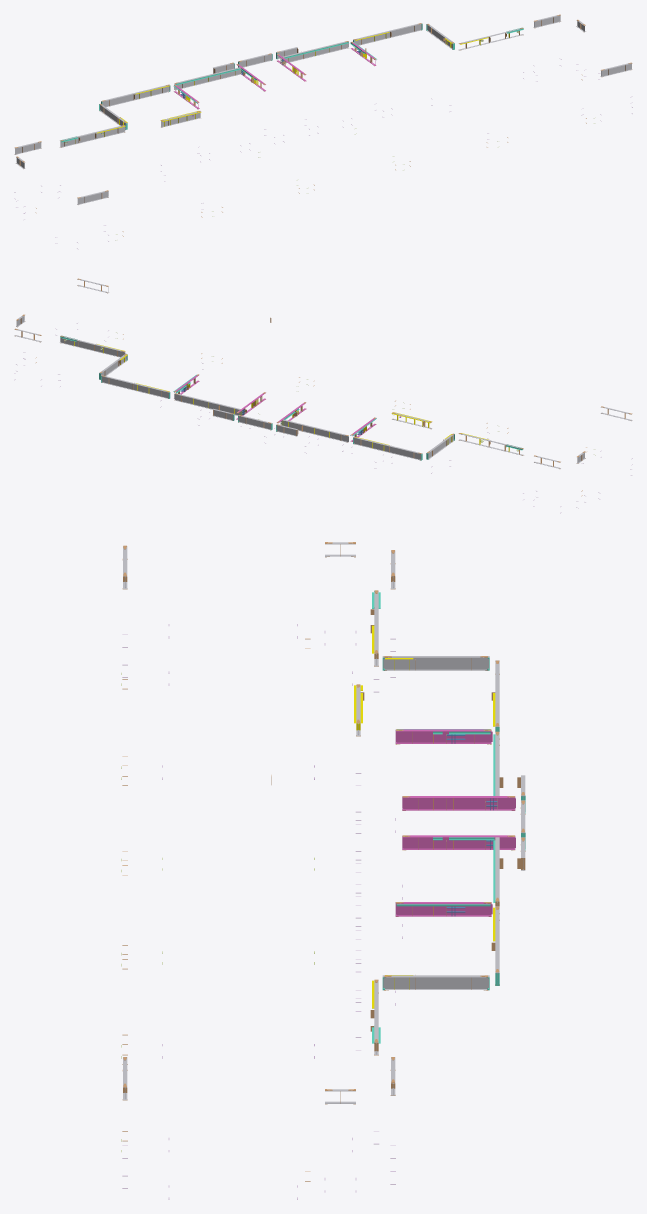
3 views of the same model, one above another, from view 1: azimuth 30°, elevation 25°; view 2: azimuth 150°, elevation 25°; view 3: azimuth 270°, elevation 25° (orthographic). The views are drawn at different scales.
Parts seen in each view (by area): view 1: 18-7GL[1WbTrB0089nZ4sCZ0qD3Ks], 18-7GL[1WbTrB008A3Z4sCZ0qD3Ks], 18-7GL[1WbTrB0089iZ4sCZ0qD3Ks], 18-7GL[1WbTrB0089qZ4sCZ0qD3Ks], 18-7GL[1WbTrB008A1Z4sCZ0qD3Ks]; view 2: 18-7GL[1WbTrB0089nZ4sCZ0qD3Ks], 18-7GL[1WbTrB008A3Z4sCZ0qD3Ks], 18-7GL[1WbTrB0089qZ4sCZ0qD3Ks], 18-7GL[1WbTrB008ADZ4sCZ0qD3Ks], 18-7GL[1WbTrB008A1Z4sCZ0qD3Ks]; view 3: 18-7GL[1WbTrB0089sZ4sCZ0qD3Ks], 18-7GL[1WbTrB008AAZ4sCZ0qD3Ks], 18-7GL[1WbTrB0089kZ4sCZ0qD3Ks], 18-7GL[1WbTrB0089$Z4sCZ0qD3Ks], 18-7GL[1WbTrB008A6Z4sCZ0qD3Ks], 18-7GL[1WbTrB008A8Z4sCZ0qD3Ks].
Part boxes in pixels (<box>): 18-7GL[1WbTrB0089nZ4sCZ0qD3Ks]: <box>101,84,169,107</box>; 18-7GL[1WbTrB008A3Z4sCZ0qD3Ks]: <box>353,23,421,45</box>; 18-7GL[1WbTrB0089iZ4sCZ0qD3Ks]: <box>60,125,125,147</box>; 18-7GL[1WbTrB0089qZ4sCZ0qD3Ks]: <box>174,67,240,90</box>; 18-7GL[1WbTrB008A1Z4sCZ0qD3Ks]: <box>282,41,348,63</box>; 18-7GL[1WbTrB0089nZ4sCZ0qD3Ks]: <box>353,437,422,460</box>; 18-7GL[1WbTrB008A3Z4sCZ0qD3Ks]: <box>101,375,169,398</box>; 18-7GL[1WbTrB0089qZ4sCZ0qD3Ks]: <box>282,419,348,442</box>; 18-7GL[1WbTrB008ADZ4sCZ0qD3Ks]: <box>60,336,125,357</box>; 18-7GL[1WbTrB008A1Z4sCZ0qD3Ks]: <box>174,394,240,415</box>; 18-7GL[1WbTrB0089sZ4sCZ0qD3Ks]: <box>402,796,515,810</box>; 18-7GL[1WbTrB008AAZ4sCZ0qD3Ks]: <box>382,975,489,989</box>; 18-7GL[1WbTrB0089kZ4sCZ0qD3Ks]: <box>382,656,489,670</box>; 18-7GL[1WbTrB0089$Z4sCZ0qD3Ks]: <box>402,835,515,849</box>; 18-7GL[1WbTrB008A6Z4sCZ0qD3Ks]: <box>395,902,492,916</box>; 18-7GL[1WbTrB008A8Z4sCZ0qD3Ks]: <box>395,729,492,743</box>.
Size of the model in its own units: 39.64 by 6.21 by 12.02.
